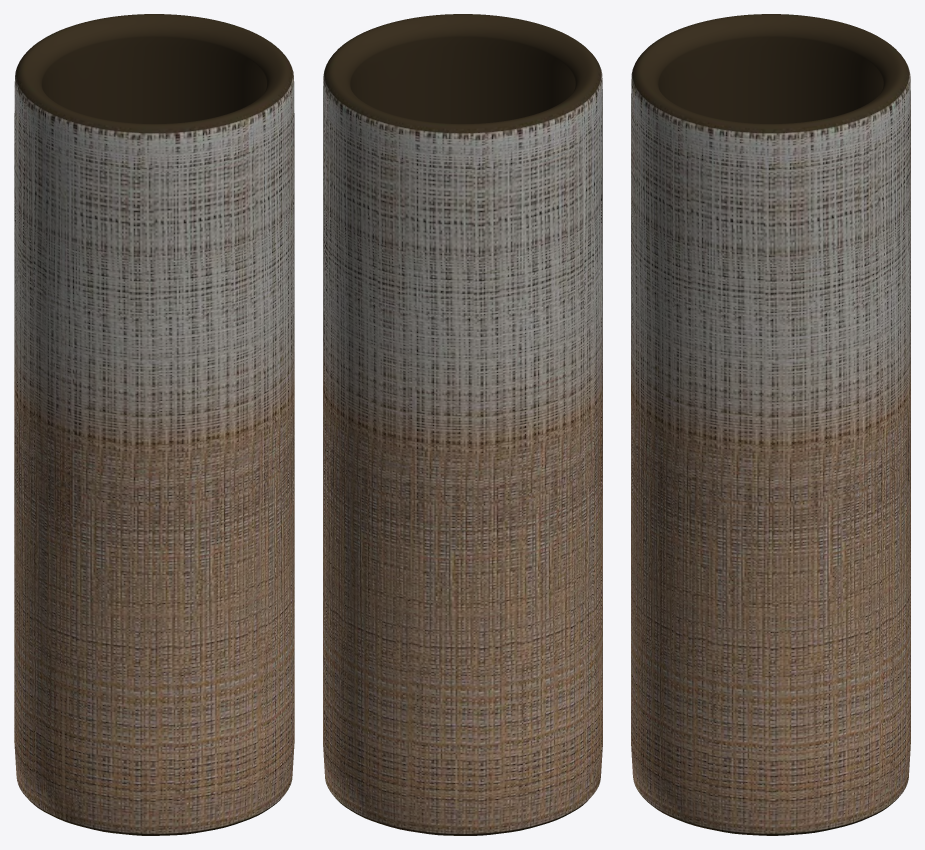
Rendered from B075HWDSZY.glb.
The picture shows the model from 3 angles, left to right: view 1: azimuth 30°, elevation 25°; view 2: azimuth 150°, elevation 25°; view 3: azimuth 270°, elevation 25°; orthographic projection.
Parts seen in each view (by area): view 1: RootNode; view 2: RootNode; view 3: RootNode.
Part boxes in pixels (<box>): RootNode: <box>14,14,294,835</box>; RootNode: <box>323,14,602,835</box>; RootNode: <box>631,14,910,835</box>.
Size of the model in its own units: 0.099 by 0.2778 by 0.099.
Materials: 1 (1 with a texture image).
